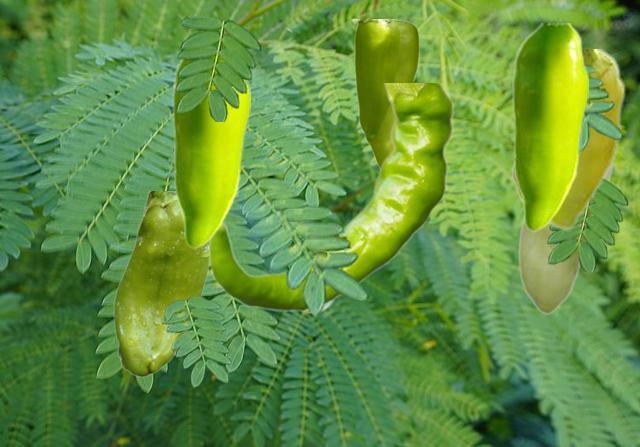green_chili: (208, 83, 454, 313), (113, 191, 209, 376), (509, 160, 611, 313), (512, 23, 587, 231), (172, 58, 249, 248), (548, 49, 625, 230), (351, 19, 418, 168)
